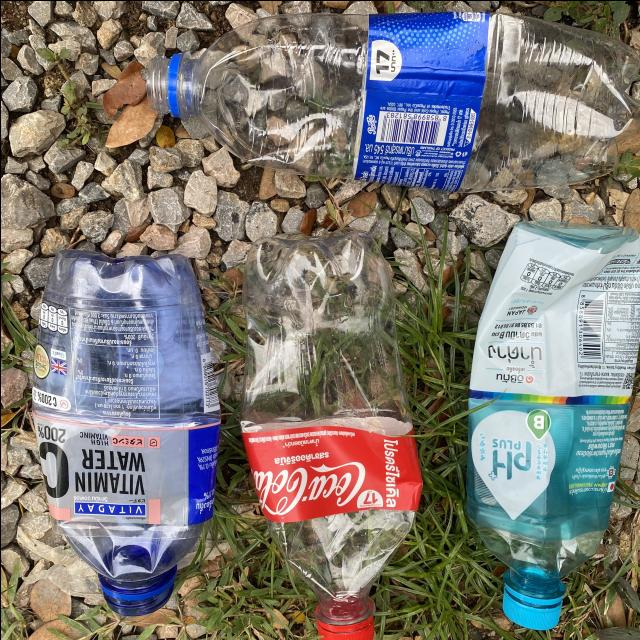plastik: (146, 11, 640, 191), (240, 228, 421, 640), (465, 220, 640, 629), (31, 249, 220, 615)
